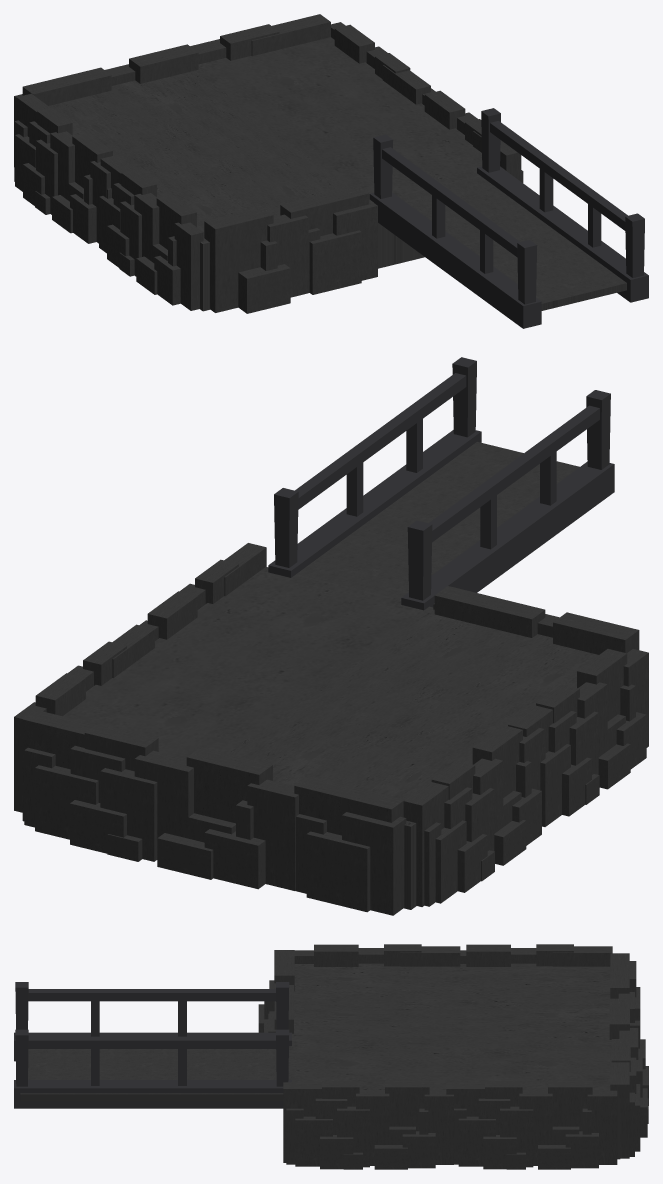
Rendered from stage1_start.FBX.
3 views of the same model, one above another, from view 1: azimuth 30°, elevation 25°; view 2: azimuth 150°, elevation 25°; view 3: azimuth 270°, elevation 25° (orthographic). The views are drawn at different scales.
Visible parts, largest first — view 1: Box157, Bridge_2, Box458, Box506, Box459, Box464, Box501, Box516, Box507, Box489, Box398, Box396 (+27 smaller); view 2: Box157, Bridge_2, Box521, Box399, Box522, Box398, Box516, Box400, Box405, Box501, Box401, Box404 (+38 smaller); view 3: Box157, Bridge_2, Box444, Box056, Box443, Box055, Box446, Box058, Box445, Box057, Box450, Box062 (+36 smaller).
Boxes of the visible parts, <box> form: Box157: <box>49,37,626,311</box>; Bridge_2: <box>369,108,648,328</box>; Box458: <box>204,207,273,312</box>; Box506: <box>309,230,361,294</box>; Box459: <box>267,214,308,297</box>; Box464: <box>238,264,290,313</box>; Box501: <box>280,185,369,236</box>; Box516: <box>22,67,111,105</box>; Box507: <box>333,200,377,280</box>; Box489: <box>174,222,203,310</box>; Box398: <box>129,44,198,83</box>; Box396: <box>251,14,330,56</box>; Box157: <box>63,442,598,909</box>; Bridge_2: <box>268,357,614,610</box>; Box521: <box>306,831,370,912</box>; Box399: <box>247,779,298,890</box>; Box522: <box>342,812,406,915</box>; Box398: <box>186,747,272,823</box>; Box516: <box>294,776,404,835</box>; Box400: <box>134,750,193,838</box>; Box405: <box>100,768,157,861</box>; Box501: <box>434,586,545,637</box>; Box401: <box>35,765,98,839</box>; Box404: <box>204,829,265,889</box>; Box157: <box>20,963,620,1159</box>; Bridge_2: <box>14,982,291,1108</box>; Box444: <box>587,1090,617,1164</box>; Box056: <box>424,1090,453,1164</box>; Box443: <box>548,1080,592,1131</box>; Box055: <box>385,1080,429,1131</box>; Box446: <box>458,1116,495,1166</box>; Box058: <box>295,1116,332,1166</box>; Box445: <box>519,1090,552,1165</box>; Box057: <box>356,1090,389,1165</box>; Box450: <box>500,1106,533,1167</box>; Box062: <box>337,1106,369,1167</box>.
Size of the model in its own units: 871 by 1503 by 307.
Materials: 3 (3 with a texture image).
